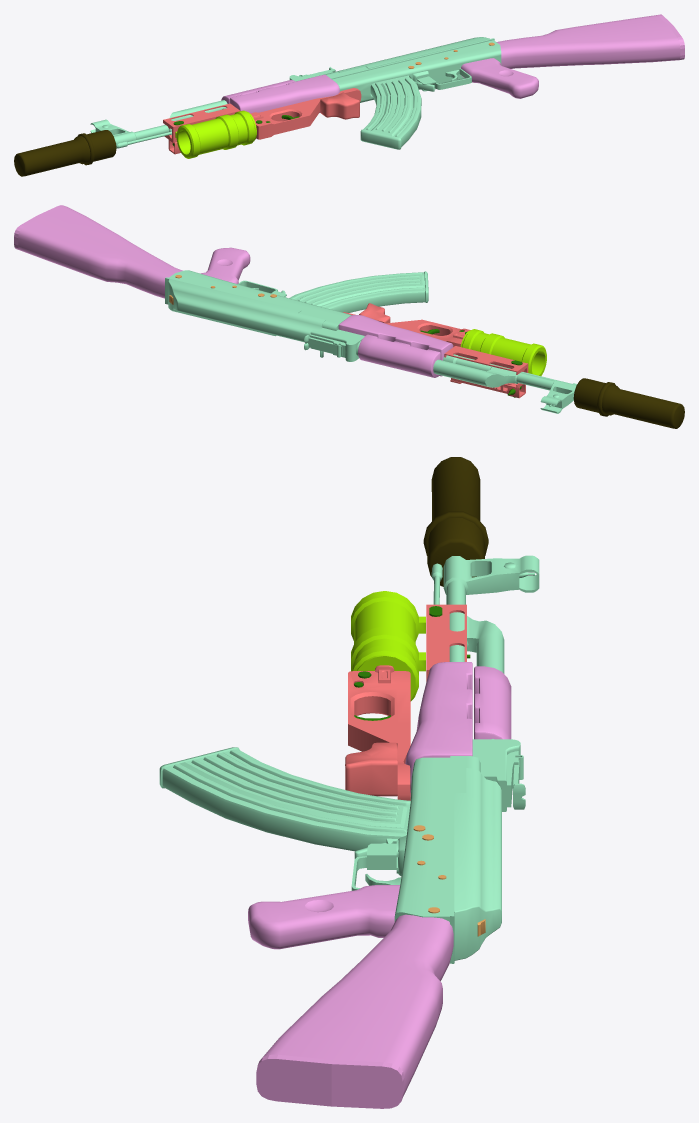
3 renders of one model, top to bottom at view 1: azimuth 30°, elevation 25°; view 2: azimuth 150°, elevation 25°; view 3: azimuth 270°, elevation 25°, orthographic. The views are drawn at different scales.
Visible parts, largest first — view 1: Plane020, Plane003, Plane006, Cylinder027, Plane014, Cylinder023, Plane021, Plane022, Cylinder015, Plane015, Plane004, Plane007 (+1 smaller); view 2: Plane020, Plane004, Plane006, Cylinder027, Cylinder015, Plane003, Plane023, Cylinder023, Plane021, Plane014, Plane022, Plane015 (+3 smaller); view 3: Plane020, Plane006, Plane003, Plane004, Plane014, Plane022, Cylinder015, Cylinder027, Cylinder023, Plane021, Plane023, Plane011 (+2 smaller).
Boxes of the visible parts, x1=… form: Plane020: x1=496, y1=14, x2=684, y2=68; Plane003: x1=324, y1=38, x2=501, y2=102; Plane006: x1=360, y1=75, x2=421, y2=149; Cylinder027: x1=14, y1=130, x2=116, y2=176; Plane014: x1=250, y1=88, x2=361, y2=139; Cylinder023: x1=175, y1=110, x2=256, y2=158; Plane021: x1=230, y1=74, x2=339, y2=113; Plane022: x1=461, y1=58, x2=538, y2=98; Cylinder015: x1=90, y1=100, x2=227, y2=144; Plane015: x1=163, y1=103, x2=239, y2=142; Plane004: x1=337, y1=37, x2=489, y2=76; Plane007: x1=416, y1=68, x2=471, y2=91; Plane020: x1=14, y1=205, x2=182, y2=298; Plane004: x1=168, y1=278, x2=325, y2=341; Plane006: x1=289, y1=271, x2=428, y2=312; Cylinder027: x1=573, y1=378, x2=684, y2=428; Cylinder015: x1=433, y1=354, x2=576, y2=413; Plane003: x1=165, y1=270, x2=351, y2=330; Plane023: x1=358, y1=334, x2=440, y2=377; Cylinder023: x1=460, y1=329, x2=546, y2=375; Plane021: x1=338, y1=315, x2=453, y2=376; Plane014: x1=343, y1=303, x2=470, y2=346; Plane022: x1=201, y1=247, x2=250, y2=283; Plane015: x1=444, y1=346, x2=528, y2=388; Plane020: x1=256, y1=914, x2=453, y2=1108; Plane006: x1=159, y1=747, x2=410, y2=851; Plane003: x1=394, y1=756, x2=480, y2=963; Plane004: x1=454, y1=768, x2=501, y2=960; Plane014: x1=345, y1=665, x2=410, y2=800; Plane022: x1=248, y1=885, x2=400, y2=949; Cylinder015: x1=443, y1=555, x2=539, y2=673; Cylinder027: x1=423, y1=457, x2=488, y2=586; Cylinder023: x1=351, y1=591, x2=425, y2=701; Plane021: x1=405, y1=662, x2=472, y2=796; Plane023: x1=474, y1=666, x2=511, y2=739; Plane011: x1=472, y1=739, x2=523, y2=811.
Size of the model in its own units: 1815 by 109 by 477.
